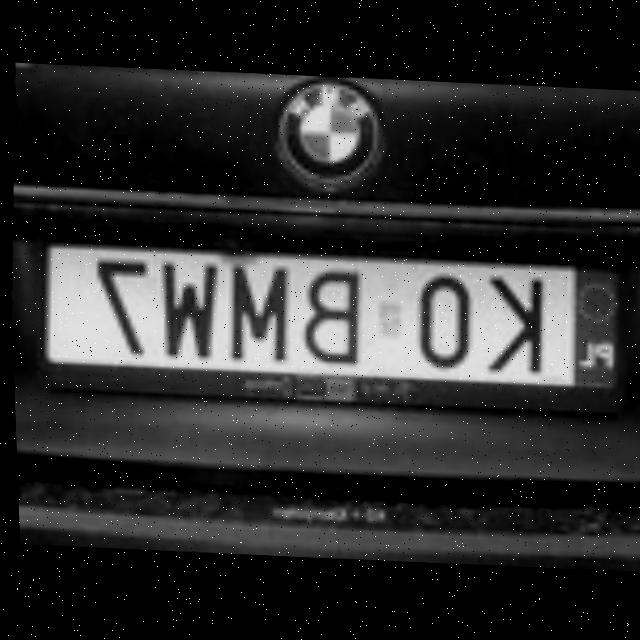license-plates: (44, 246, 619, 390)
